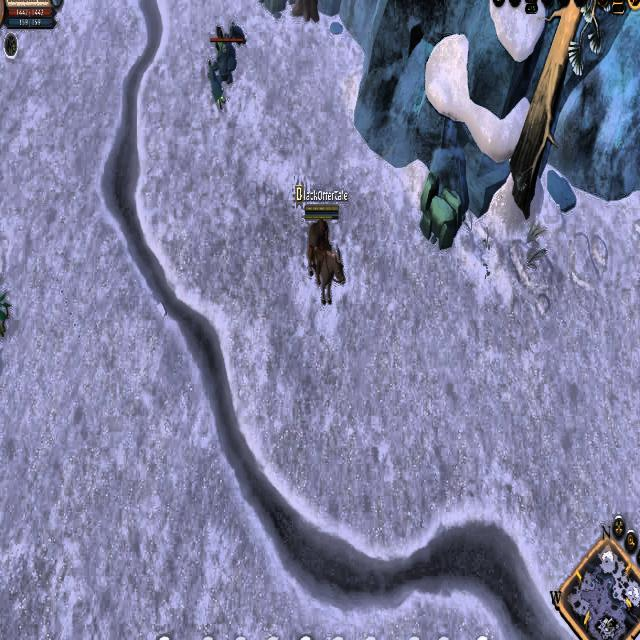sandstone: (418, 163, 462, 251)
